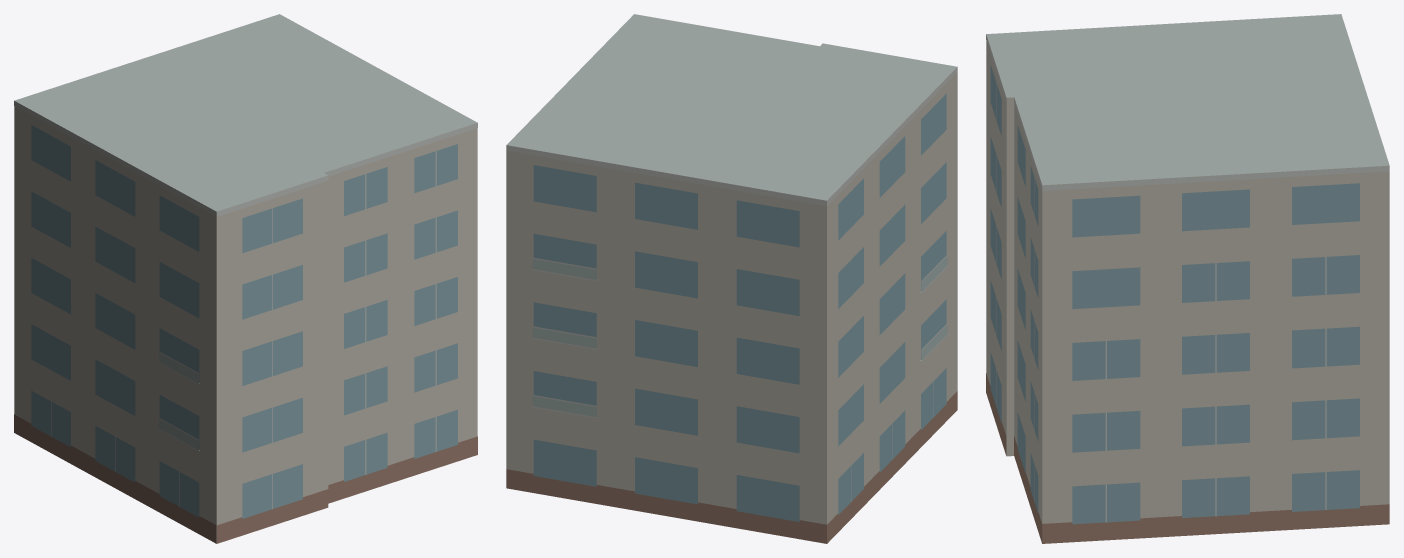
File: survey-upis-32871503.glb
3 views of the same model, side by side, from view 1: azimuth 30°, elevation 25°; view 2: azimuth 150°, elevation 25°; view 3: azimuth 270°, elevation 25° (orthographic). The views are drawn at different scales.
Parts seen in each view (by area): view 1: survey-upis-32871503.tmp; view 2: survey-upis-32871503.tmp; view 3: survey-upis-32871503.tmp.
Part boxes in pixels (x1,y1,x2,y2): survey-upis-32871503.tmp: (14,14,477,543); survey-upis-32871503.tmp: (506,14,957,543); survey-upis-32871503.tmp: (986,14,1389,543).
Size of the model in its own units: 15.63 by 15.25 by 15.56.
